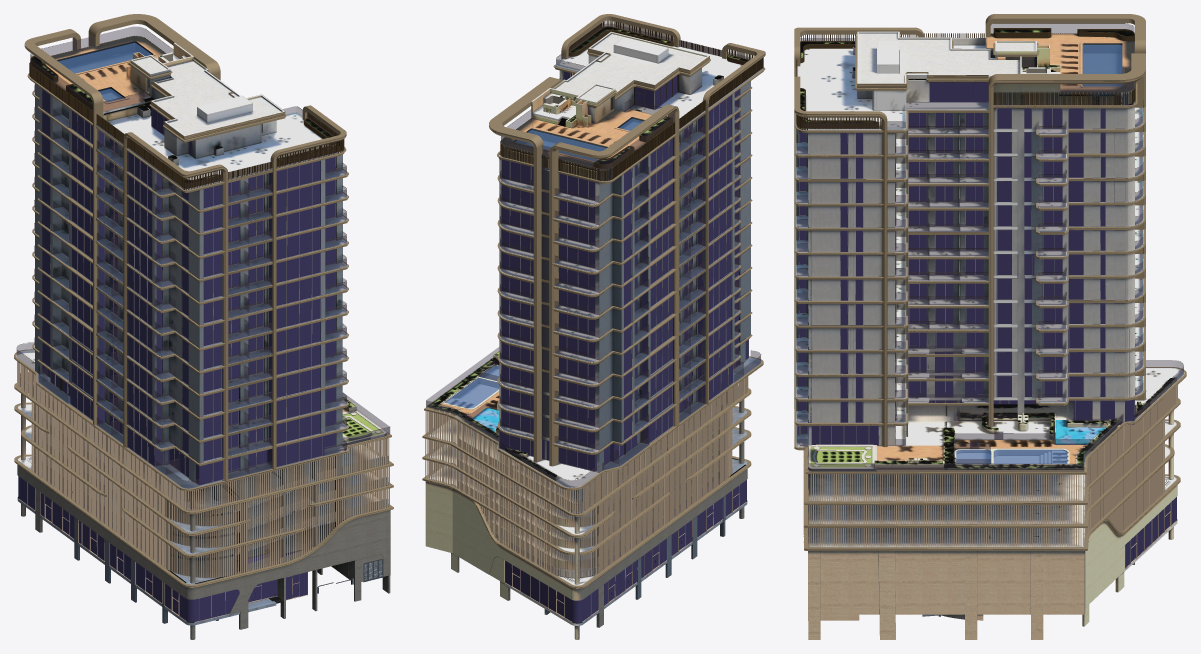
Rendered from Al_Jaddaf_build.glb.
The picture shows the model from 3 angles, left to right: view 1: azimuth 30°, elevation 25°; view 2: azimuth 150°, elevation 25°; view 3: azimuth 270°, elevation 25°; orthographic projection. The views are drawn at different scales.
Parts seen in each view (by area): view 1: Al_Jaddaf_build; view 2: Al_Jaddaf_build; view 3: Al_Jaddaf_build.
Part boxes in pixels (x1,y1,x2,y2): Al_Jaddaf_build: [14, 14, 393, 639]; Al_Jaddaf_build: [422, 14, 765, 639]; Al_Jaddaf_build: [794, 14, 1186, 639].
Size of the model in its own units: 37.94 by 84.49 by 56.75.
21 materials, 4 textured.
